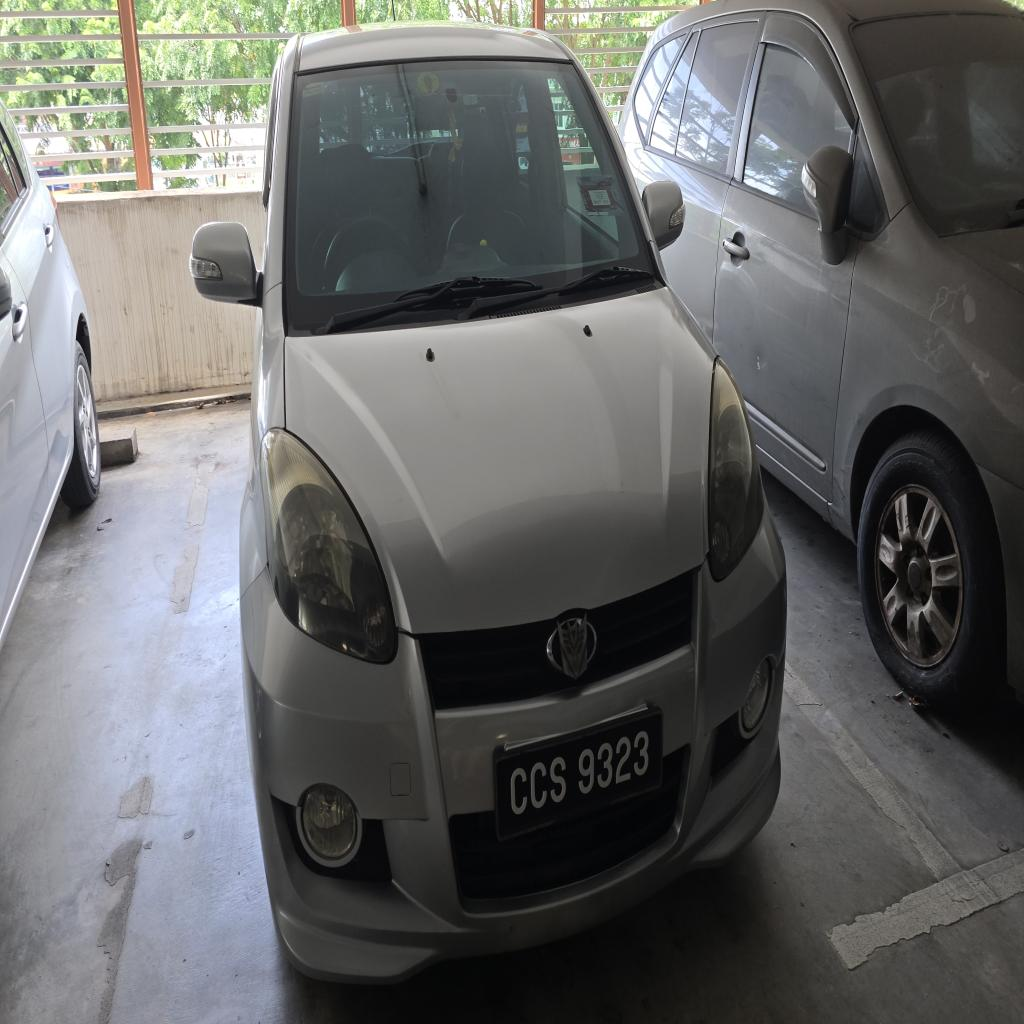car: (191, 26, 785, 980)
car plate: (495, 708, 662, 839)
